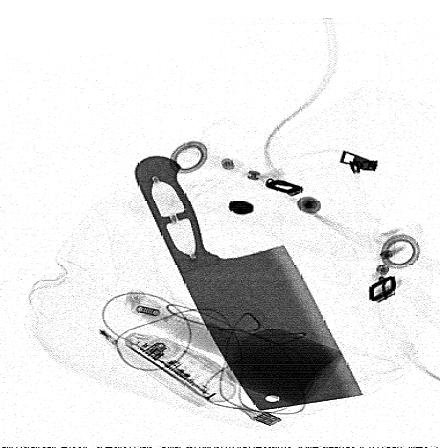Knife: (130, 153, 366, 412)
